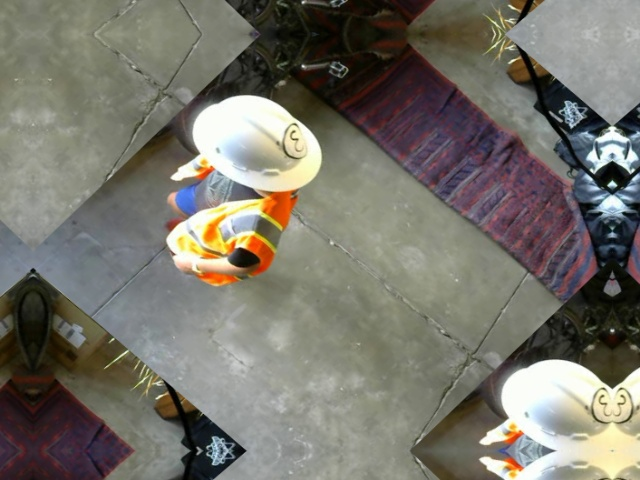three: (270, 118, 320, 162)
